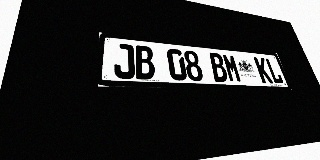0: (166, 48, 188, 81)
8: (183, 50, 204, 81)
B: (134, 45, 156, 80), (208, 52, 229, 82)
J: (114, 43, 135, 79)
K: (253, 57, 273, 83)
L: (264, 58, 284, 84)
M: (222, 54, 243, 82)
